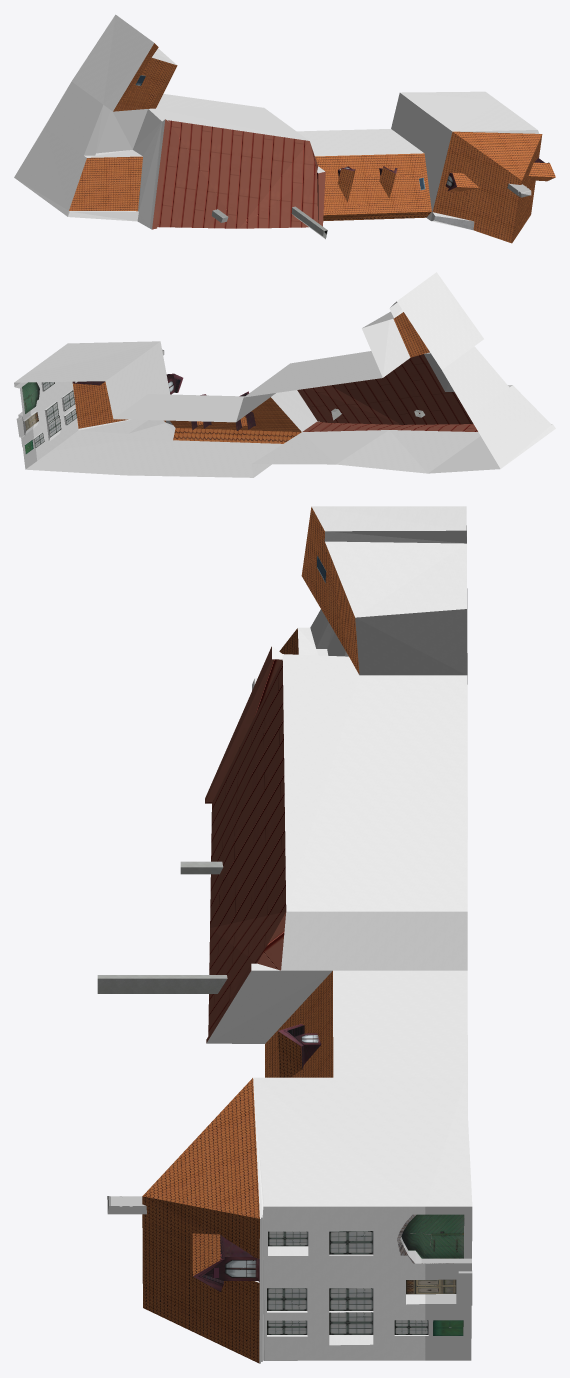
File: Vene_27-origo.obj
The picture shows the model from 3 angles, top to bottom: view 1: azimuth 30°, elevation 25°; view 2: azimuth 150°, elevation 25°; view 3: azimuth 270°, elevation 25°; orthographic projection. The views are drawn at different scales.
Parts seen in each view (by area): view 1: Vene_27; view 2: Vene_27; view 3: Vene_27.
Part boxes in pixels (x1,y1,x2,y2): Vene_27: [14, 14, 555, 243]; Vene_27: [14, 272, 555, 477]; Vene_27: [97, 506, 472, 1363].
Bounding box in the file's own units: 57.56 × 29 × 19.61.
